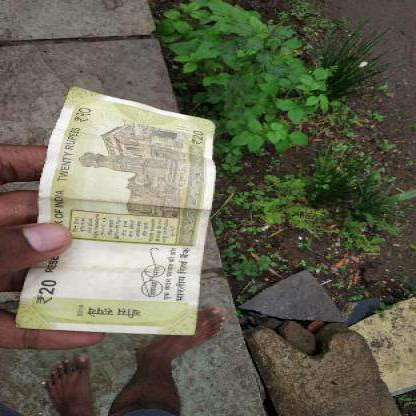New20Back: (15, 88, 209, 330)
